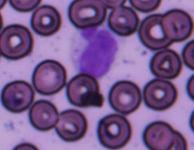M: (71, 24, 122, 78)
